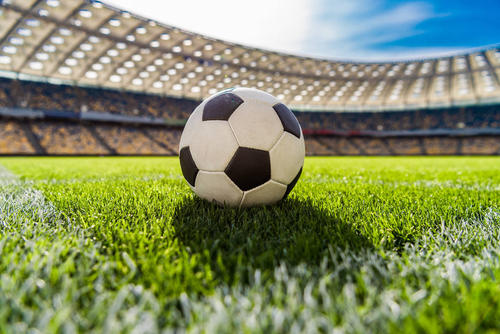football: (178, 87, 312, 208)
